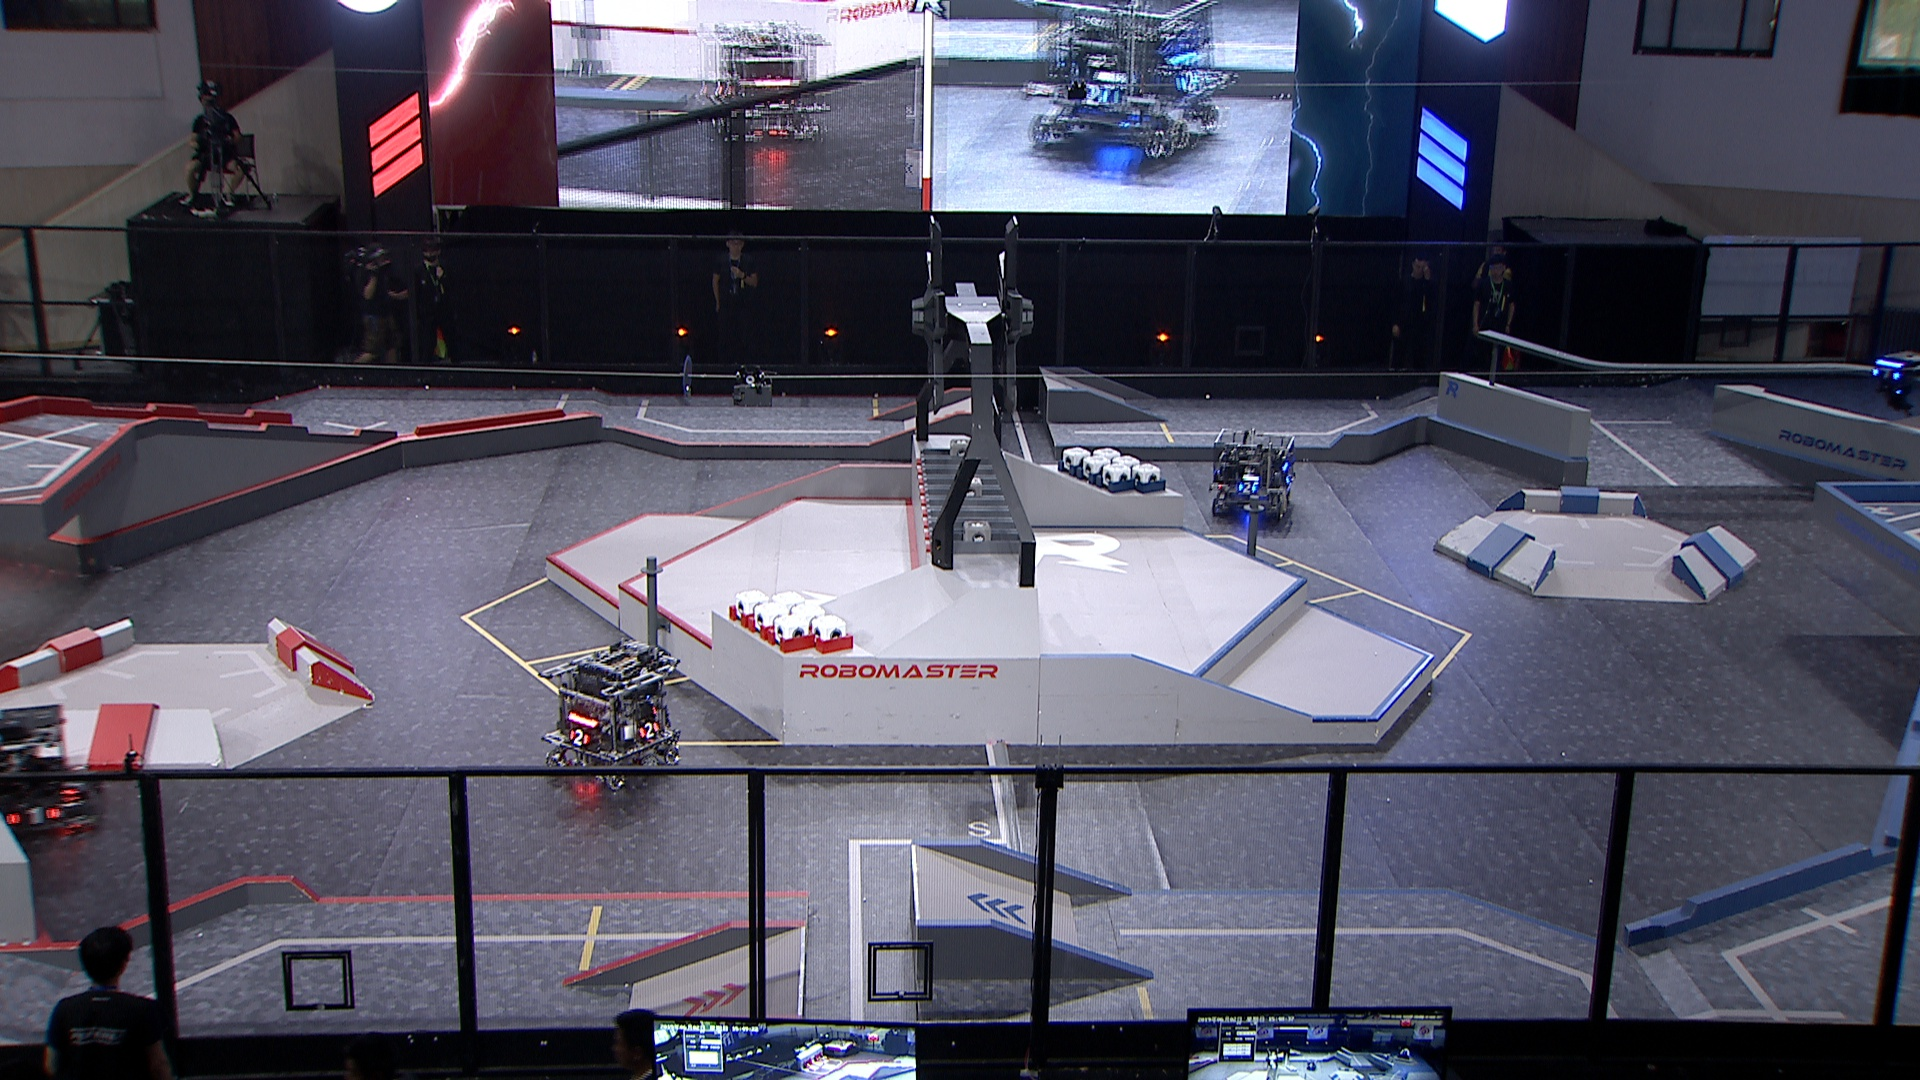armor: (1, 806, 63, 828), (1871, 363, 1902, 382), (636, 717, 659, 741), (57, 777, 84, 796), (568, 727, 589, 749), (1238, 480, 1259, 498), (1280, 469, 1298, 488)
car: (537, 637, 686, 794), (1207, 427, 1300, 531)
ignore: (698, 22, 831, 144)
watcher: (1865, 348, 1920, 415)
